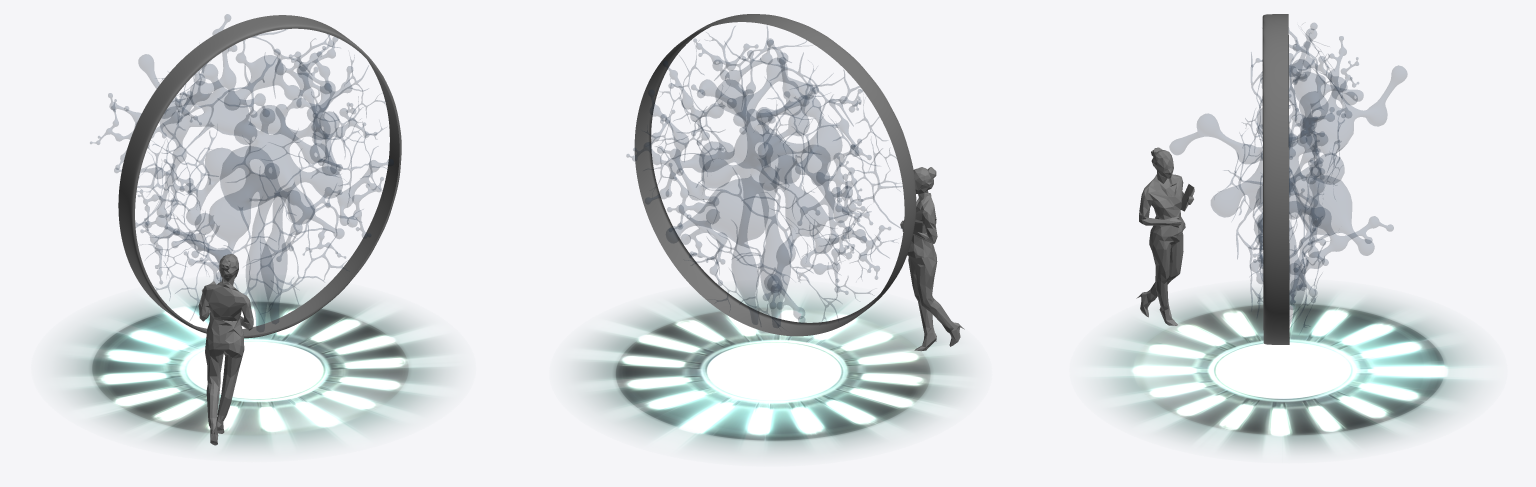
File: central_brain_of_mankind_cml.glb
The picture shows the model from 3 angles, left to right: view 1: azimuth 30°, elevation 25°; view 2: azimuth 150°, elevation 25°; view 3: azimuth 270°, elevation 25°; orthographic projection.
Visible parts, largest first — view 1: CML_podklad_03, CML_MOZEK_01, CML_OBRUC_02, zena; view 2: CML_podklad_03, CML_MOZEK_01, CML_OBRUC_02, zena; view 3: CML_podklad_03, CML_MOZEK_01, CML_OBRUC_02, zena.
Part boxes in pixels (x1,y1,x2,y2): CML_podklad_03: (54,284,454,453); CML_MOZEK_01: (90,14,393,331); CML_OBRUC_02: (118,15,401,338); zena: (198,254,253,445); CML_podklad_03: (572,288,970,456); CML_MOZEK_01: (626,26,903,327); CML_OBRUC_02: (634,14,916,336); zena: (900,167,964,351); CML_podklad_03: (1089,288,1483,455); CML_MOZEK_01: (1169,23,1407,328); CML_OBRUC_02: (1262,14,1289,344); zena: (1136,147,1194,325).
Bounding box in the file's own units: 4.16 × 3.29 × 4.15.
Materials: 4 (1 with a texture image).
